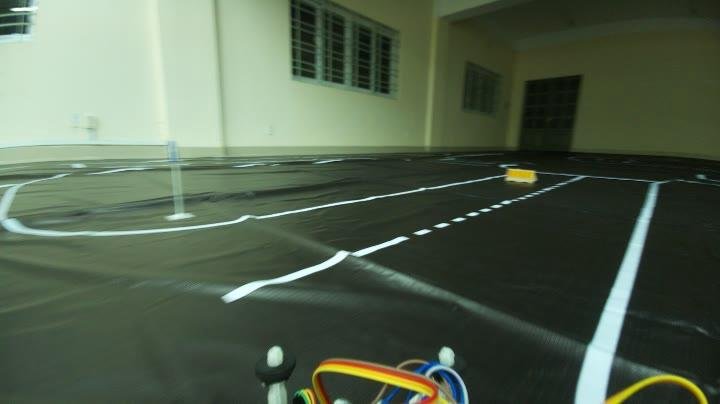onewayroad: (162, 141, 180, 163)
roadblock: (500, 164, 542, 188)
